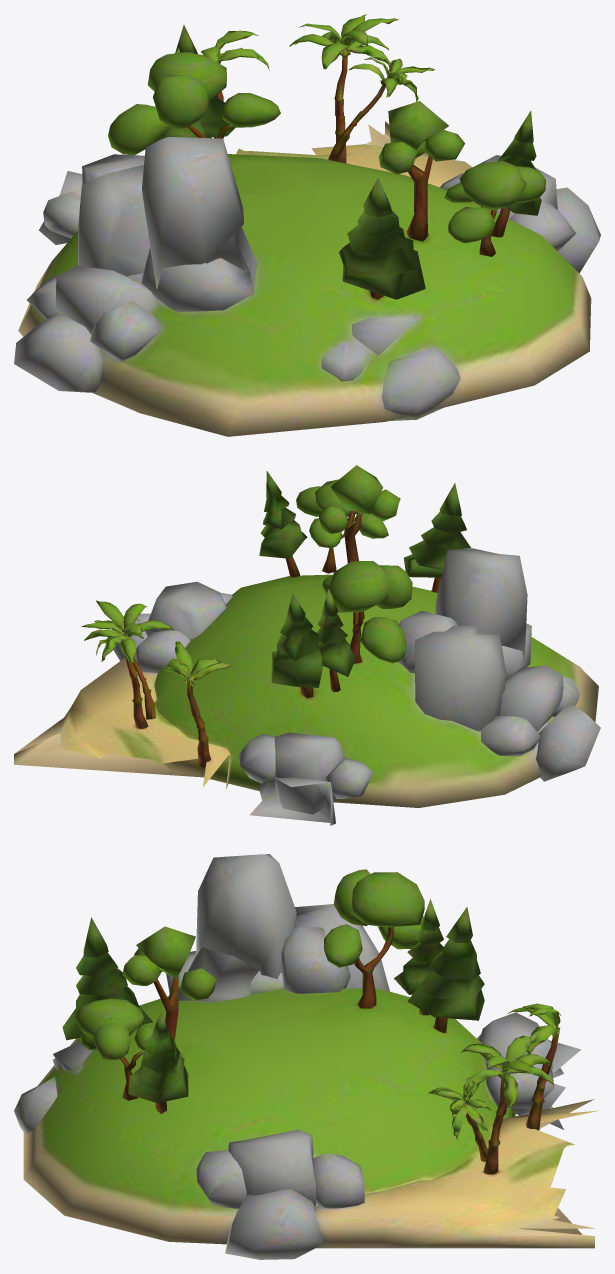
File: isle_11.glb
The picture shows the model from 3 angles, top to bottom: view 1: azimuth 30°, elevation 25°; view 2: azimuth 150°, elevation 25°; view 3: azimuth 270°, elevation 25°; orthographic projection. The views are drawn at different scales.
Visible parts, largest first — view 1: tripo_node_95c1abf6-a5b8-450d-afea-b5f51e802dae; view 2: tripo_node_95c1abf6-a5b8-450d-afea-b5f51e802dae; view 3: tripo_node_95c1abf6-a5b8-450d-afea-b5f51e802dae.
Boxes of the visible parts, bbox=[...] form: tripo_node_95c1abf6-a5b8-450d-afea-b5f51e802dae: bbox=[14, 14, 600, 436]; tripo_node_95c1abf6-a5b8-450d-afea-b5f51e802dae: bbox=[14, 465, 600, 825]; tripo_node_95c1abf6-a5b8-450d-afea-b5f51e802dae: bbox=[14, 854, 598, 1259].
Bounding box in the file's own units: 59.36 × 24.87 × 54.99.
Materials: 1 (1 with a texture image).
